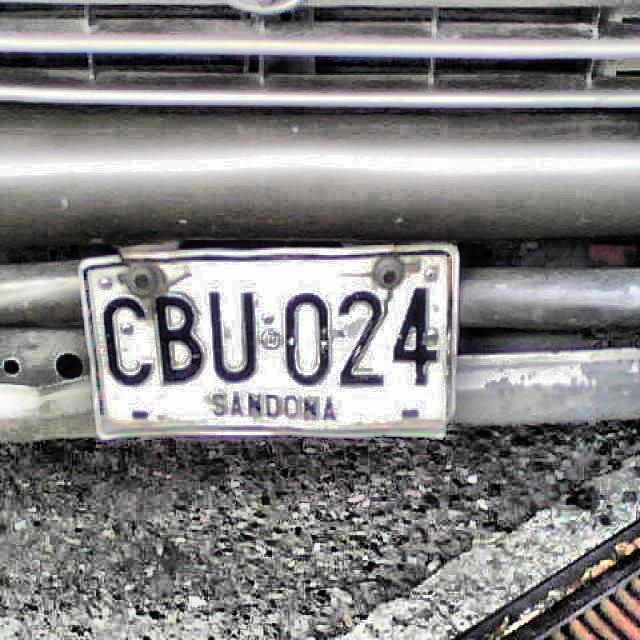plate: (83, 251, 451, 437)
